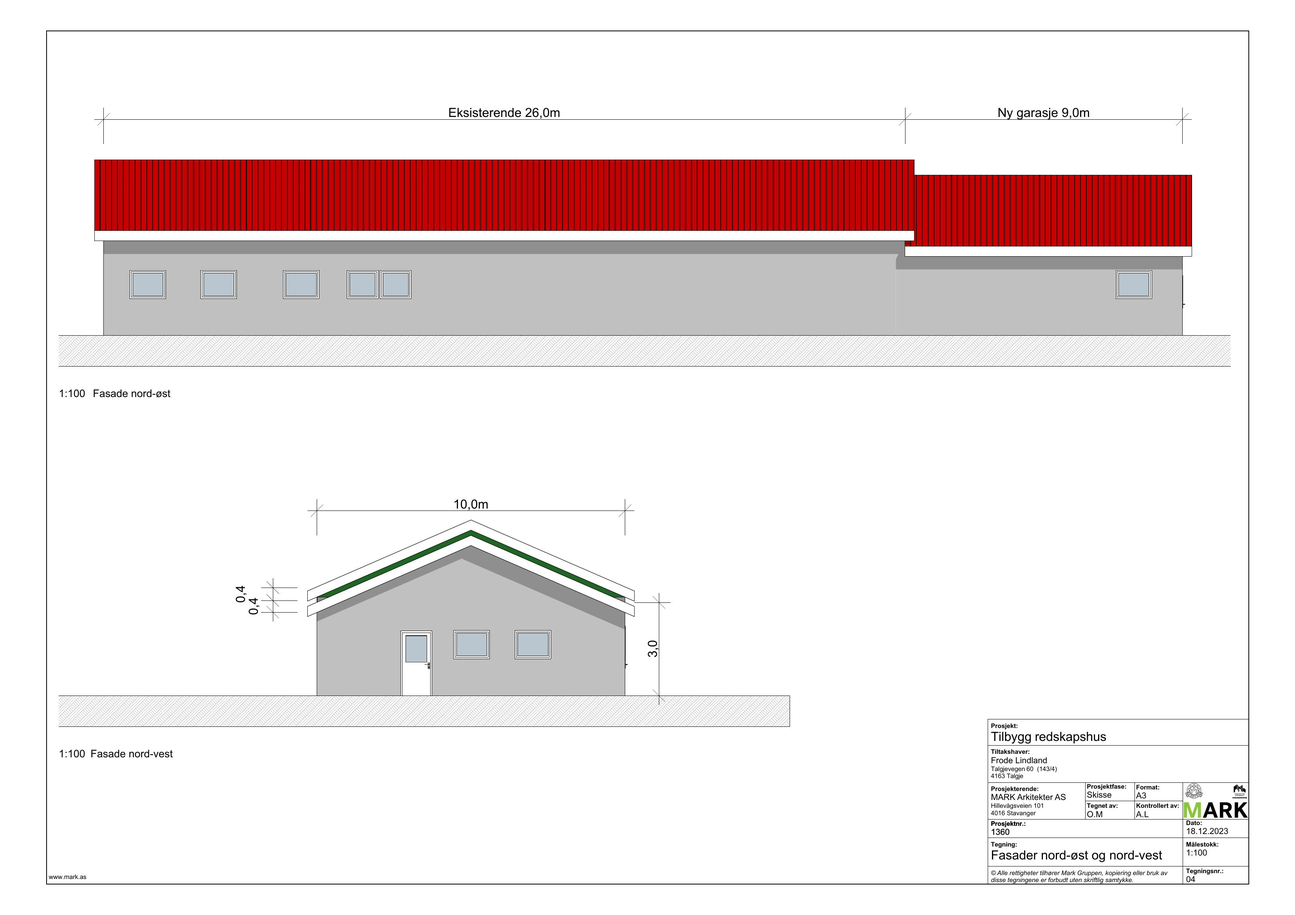fasade: (92, 158, 1193, 336), (308, 520, 635, 694)
